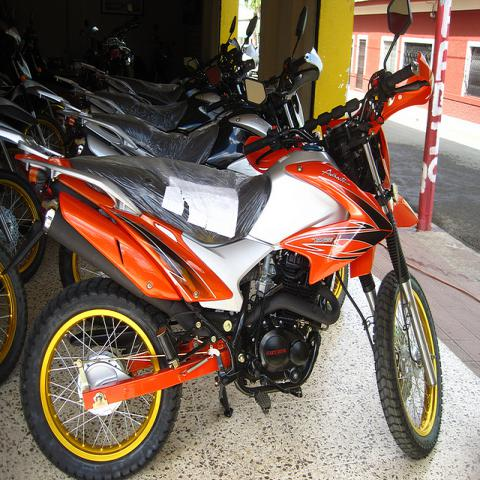motorcycle: (31, 7, 440, 465), (57, 53, 322, 288), (1, 114, 308, 235), (62, 46, 256, 124), (97, 15, 237, 109), (1, 18, 67, 154), (1, 166, 44, 282), (0, 248, 29, 386), (93, 4, 140, 80)
